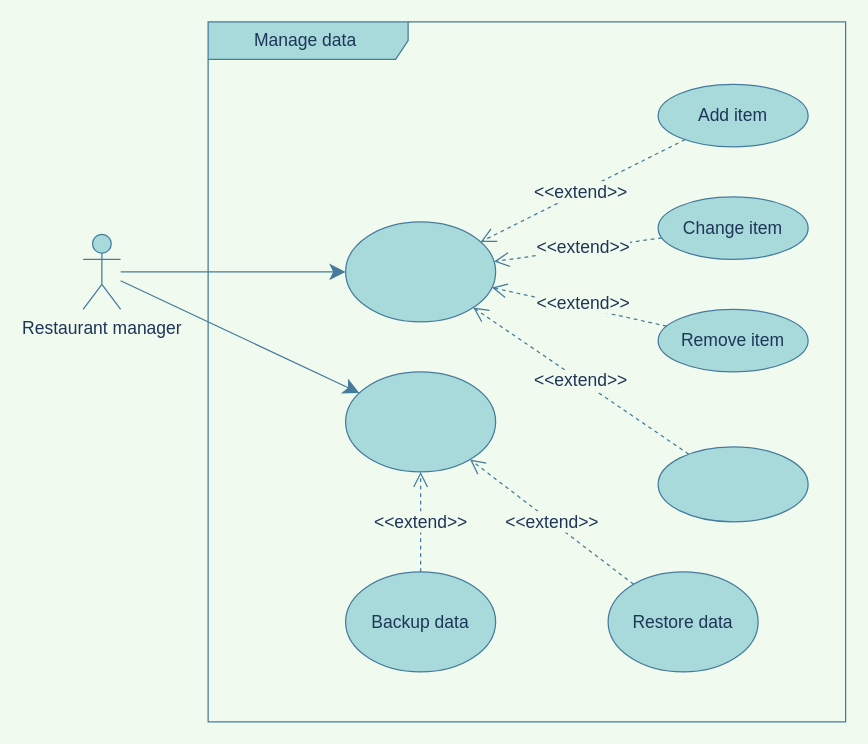
Image size: 868x744. Some labels were removed from this diagram. Each missing label, with the centre of its shape:
"Edit menu" belongs at (420,271).
"Maintain data" belongs at (420,421).
"Update promotion" belongs at (732,484).
